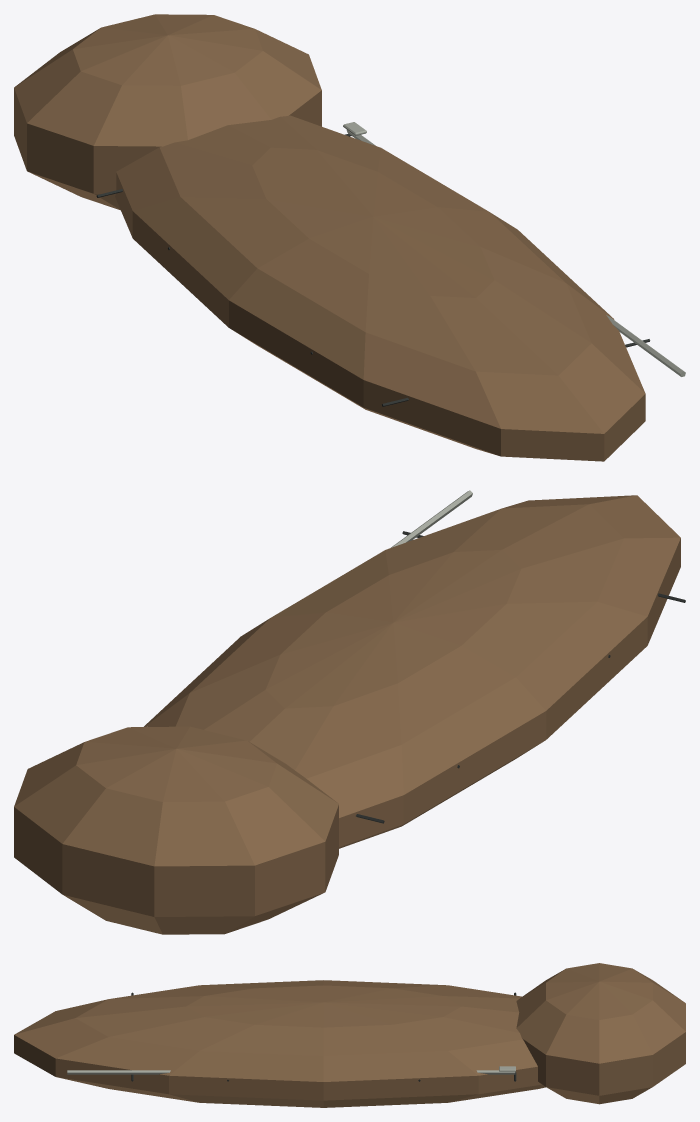
Rendered from sleepingbag.glb.
The picture shows the model from 3 angles, top to bottom: view 1: azimuth 30°, elevation 25°; view 2: azimuth 150°, elevation 25°; view 3: azimuth 270°, elevation 25°; orthographic projection. The views are drawn at different scales.
Visible parts, largest first — view 1: quilt, hood, zipper; view 2: quilt, hood; view 3: quilt, hood, zipper.
Boxes of the visible parts, x1,y1,x2,y2 form: quilt: (115,115,645,461); hood: (14,14,321,210); zipper: (346,130,685,376); quilt: (144,495,680,848); hood: (14,726,338,934); quilt: (14,980,545,1107); hood: (516,963,685,1104); zipper: (67,1070,515,1074).
Bounding box in the file's own units: 0.585 × 0.3 × 1.76.
